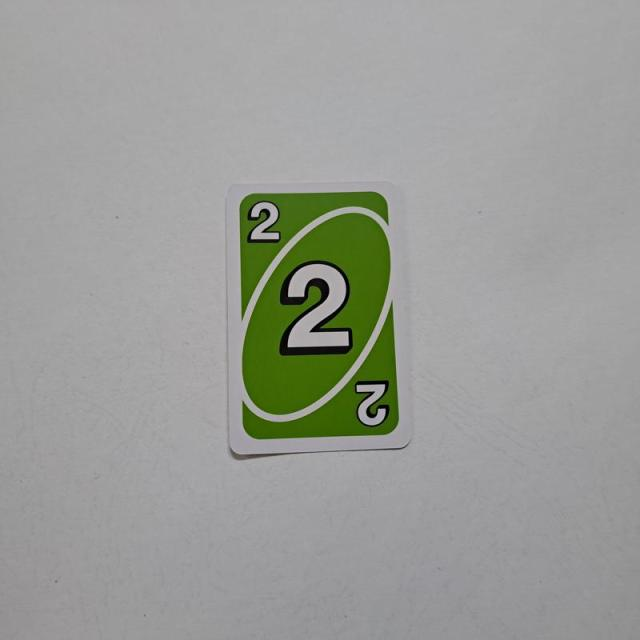Green_Card: (235, 186, 404, 444)
Number_2: (243, 196, 284, 250)
